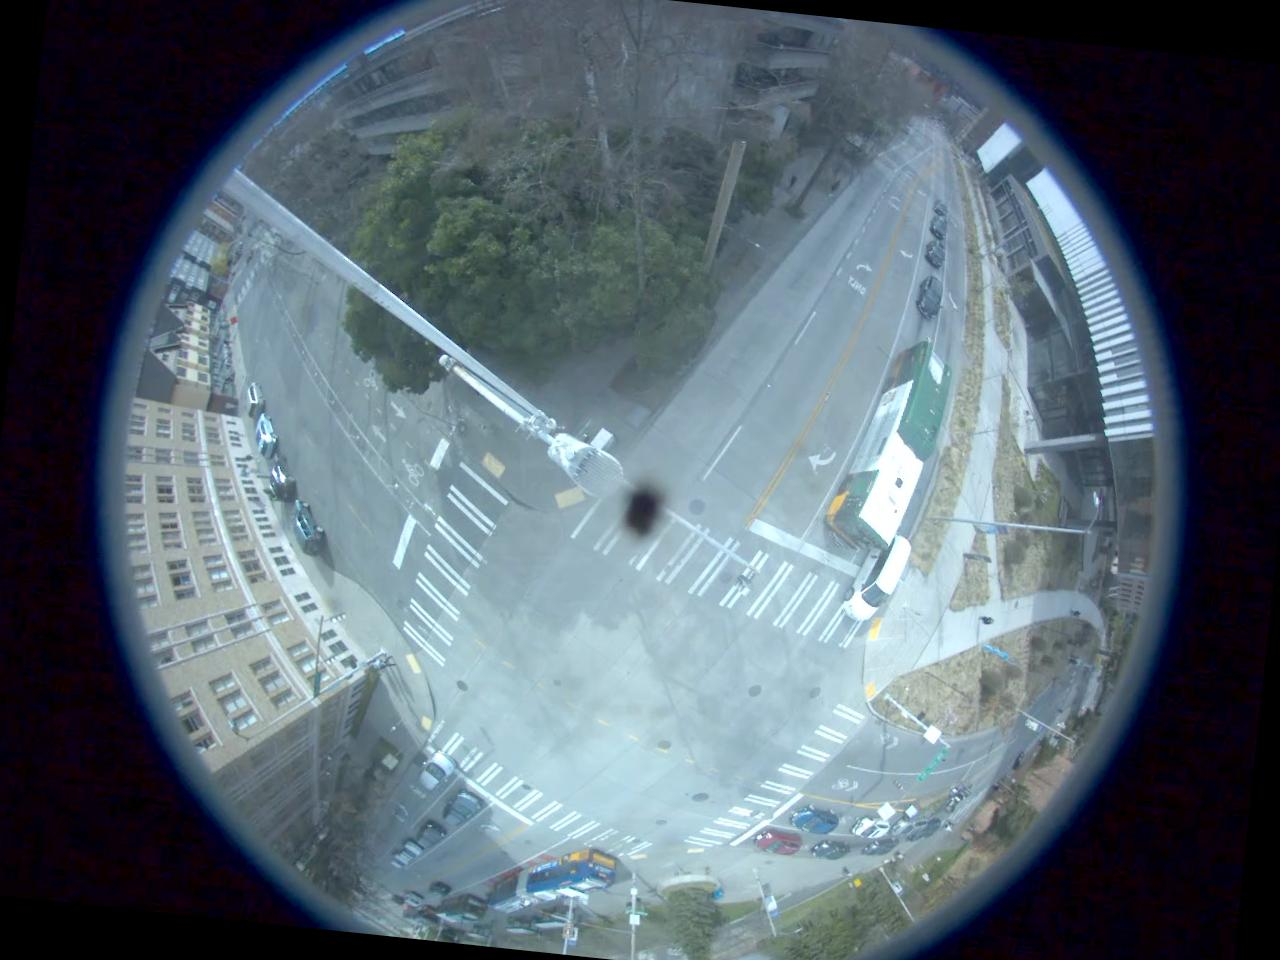bus: (829, 336, 953, 556), (488, 840, 622, 926), (434, 892, 488, 924), (400, 905, 438, 928)
car: (842, 528, 918, 635), (290, 500, 328, 560), (789, 804, 842, 840), (414, 750, 452, 792), (439, 790, 478, 830), (914, 275, 946, 320), (849, 813, 891, 846), (266, 456, 297, 500), (250, 411, 278, 458), (808, 836, 854, 864), (889, 810, 928, 840), (756, 830, 800, 856), (862, 836, 902, 862), (245, 380, 268, 422), (412, 820, 448, 846), (926, 214, 952, 244), (922, 242, 948, 271), (397, 839, 424, 866), (424, 880, 453, 900), (402, 889, 424, 906), (388, 855, 408, 872)
person: (371, 651, 396, 681), (976, 613, 1000, 628)
